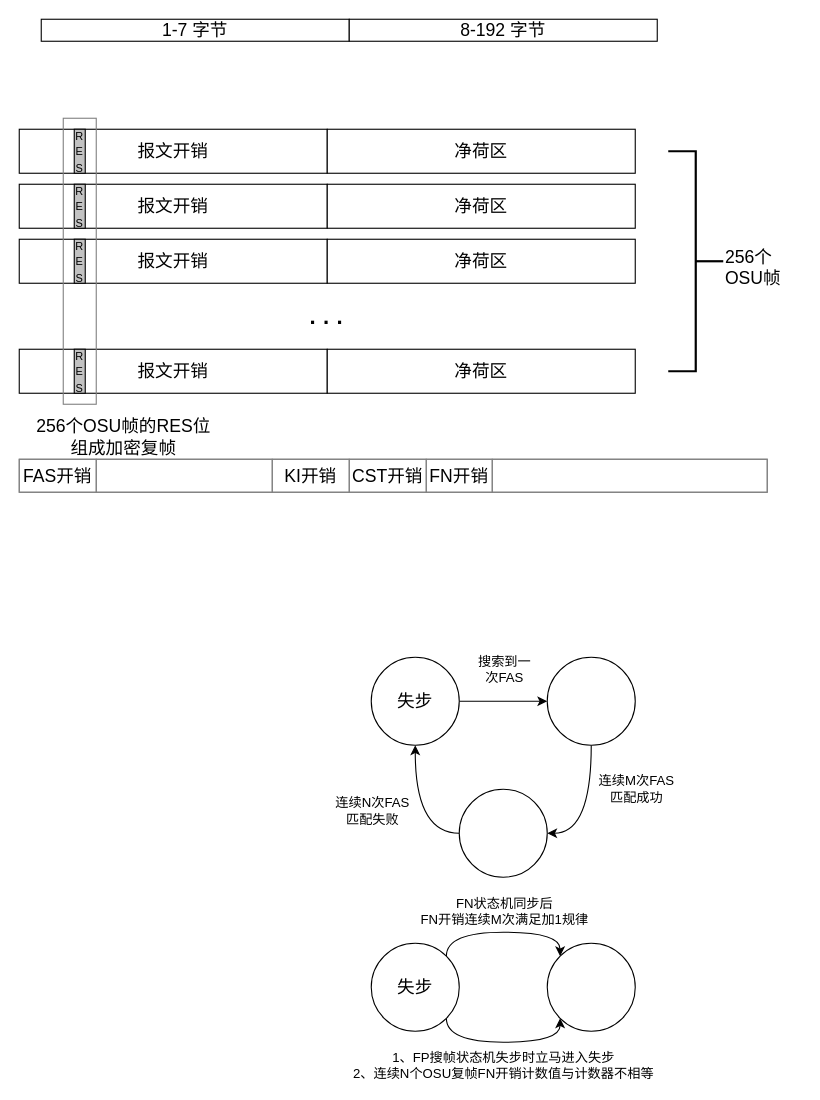
Image size: 820x1100. Some labels were removed from this diagram. The shapes that lost their labels are listed below. From the top down, each one's box as (x1, y1, x2, y2) in pixels, then its label:
(95, 458, 272, 492): AT开销
(491, 458, 767, 492): 保留开销
(546, 656, 635, 745): 预同步
(458, 788, 547, 877): 同步
(546, 942, 635, 1031): FN计数 同步
